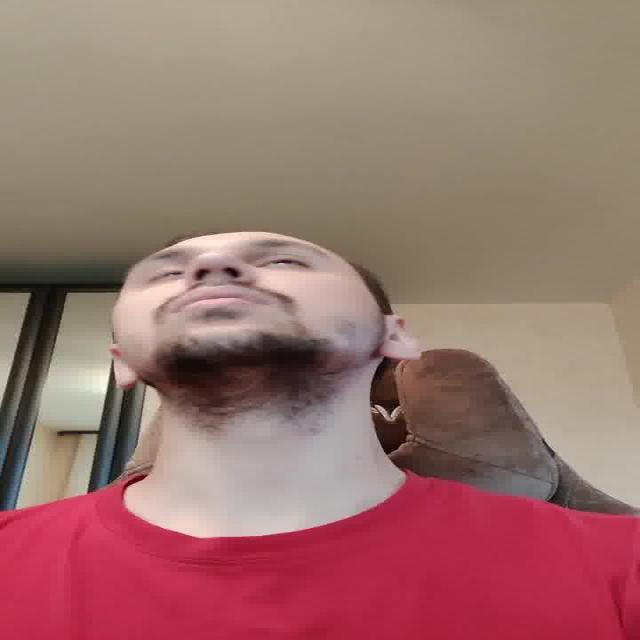earlobe: (379, 312, 425, 360), (105, 343, 142, 390)
